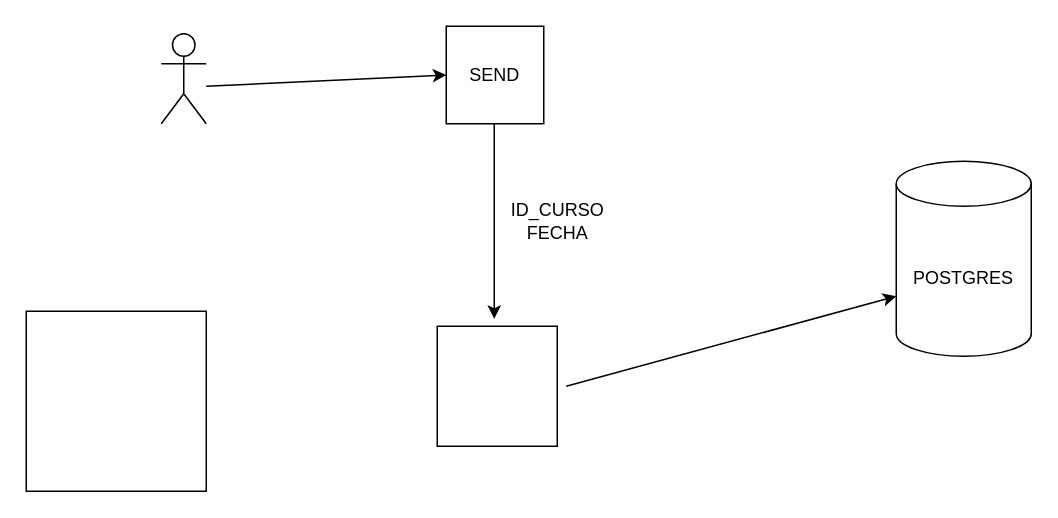
This 1058x518 diagram has some shape labels left out. Each missing label, with the centre of its shape:
Actor: point (183, 78)
QR: point (496, 385)
